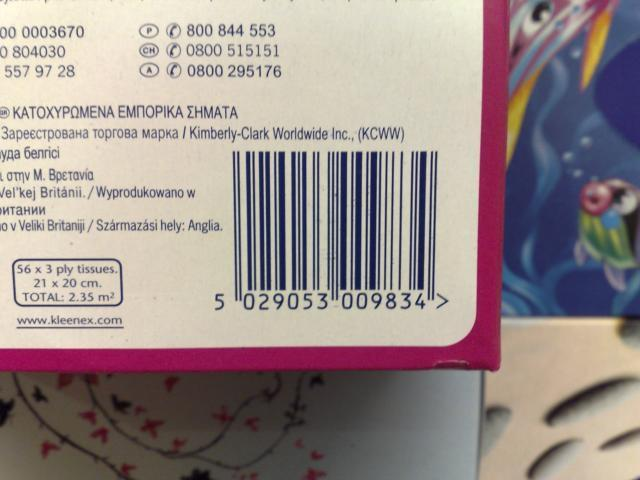Barcode: (209, 146, 440, 320)
